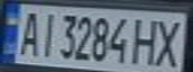2: (72, 12, 93, 62)
3: (54, 10, 78, 60)
4: (106, 13, 136, 64)
8: (90, 12, 112, 63)
A: (12, 7, 45, 57)
H: (127, 16, 163, 66)
I: (33, 8, 60, 59)
X: (151, 16, 190, 69)
